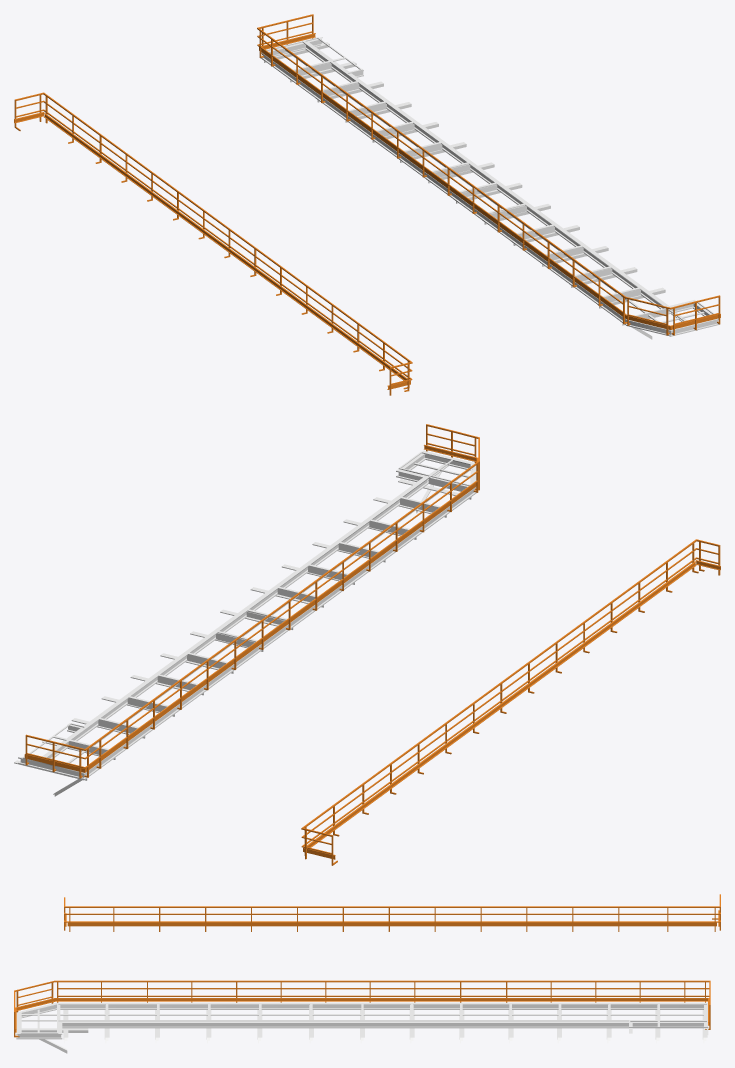
Rendered from SM_H_Building_Tide_Waterway_04h_ATLAS.fbx.
The picture shows the model from 3 angles, top to bottom: view 1: azimuth 30°, elevation 25°; view 2: azimuth 150°, elevation 25°; view 3: azimuth 270°, elevation 25°; orthographic projection. The views are drawn at different scales.
Parts seen in each view (by area): view 1: SM_H_Building_Tide_Waterway_04h_ATLAS; view 2: SM_H_Building_Tide_Waterway_04h_ATLAS; view 3: SM_H_Building_Tide_Waterway_04h_ATLAS.
Boxes of the visible parts, left/top/right/bottom form: SM_H_Building_Tide_Waterway_04h_ATLAS: left=14, top=14, right=720, bottom=395; SM_H_Building_Tide_Waterway_04h_ATLAS: left=14, top=424, right=720, bottom=865; SM_H_Building_Tide_Waterway_04h_ATLAS: left=14, top=894, right=720, bottom=1053.
Bounding box in the file's own units: 1256 × 2767 × 219.
